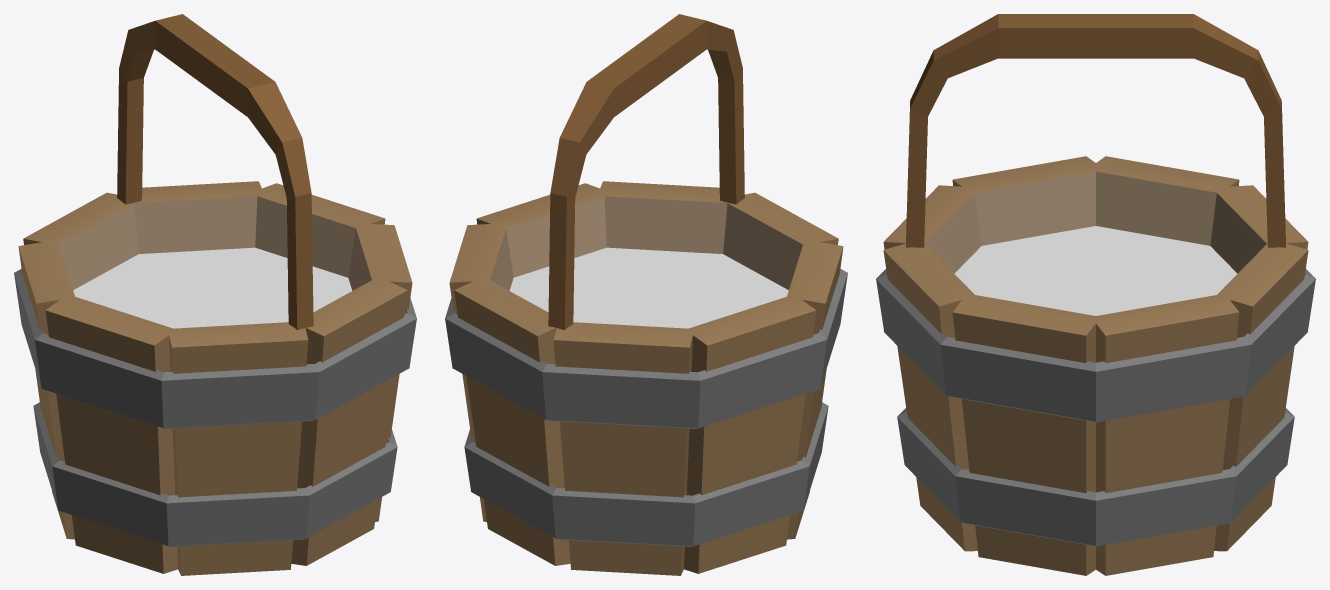
Rendered from HandBucket.fbx.
3 views of the same model, side by side, from view 1: azimuth 30°, elevation 25°; view 2: azimuth 150°, elevation 25°; view 3: azimuth 270°, elevation 25° (orthographic). The views are drawn at different scales.
Parts seen in each view (by area): view 1: farm; view 2: farm; view 3: farm.
Boxes of the visible parts, <box> form: farm: <box>14,14,416,575</box>; farm: <box>445,14,847,575</box>; farm: <box>876,14,1315,575</box>.
Bounding box in the file's own units: 35.68 × 43.32 × 35.68.
